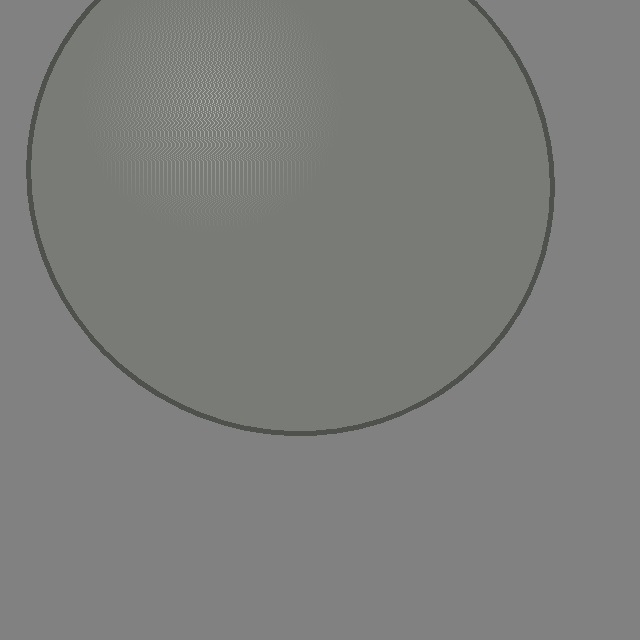lens: (29, 0, 551, 433)
